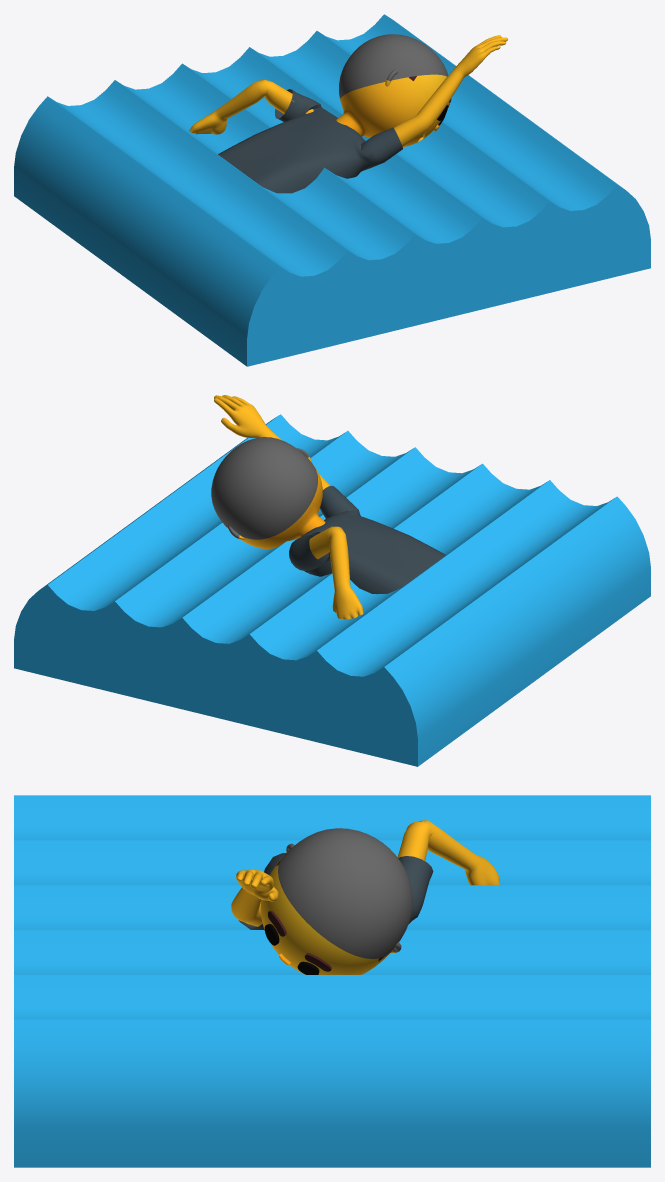
The model's file is person_swimming.fbx.
3 views of the same model, one above another, from view 1: azimuth 30°, elevation 25°; view 2: azimuth 150°, elevation 25°; view 3: azimuth 270°, elevation 25° (orthographic). The views are drawn at different scales.
Visible parts, largest first — view 1: Cube.017, Circle.133, Roundcube.463; view 2: Cube.017, Circle.133, Roundcube.463; view 3: Cube.017, Roundcube.463, Circle.133.
Boxes of the visible parts, box(x1,y1,x2,y2) form: Cube.017: box(14, 14, 650, 366); Circle.133: box(189, 35, 507, 193); Roundcube.463: box(336, 34, 448, 146); Cube.017: box(14, 414, 650, 766); Circle.133: box(214, 395, 445, 619); Roundcube.463: box(211, 437, 325, 548); Cube.017: box(14, 795, 650, 1167); Roundcube.463: box(260, 828, 412, 974); Circle.133: box(231, 820, 499, 929).
Size of the model in its own units: 200 by 85.88 by 200.
2 materials, 2 textured.
